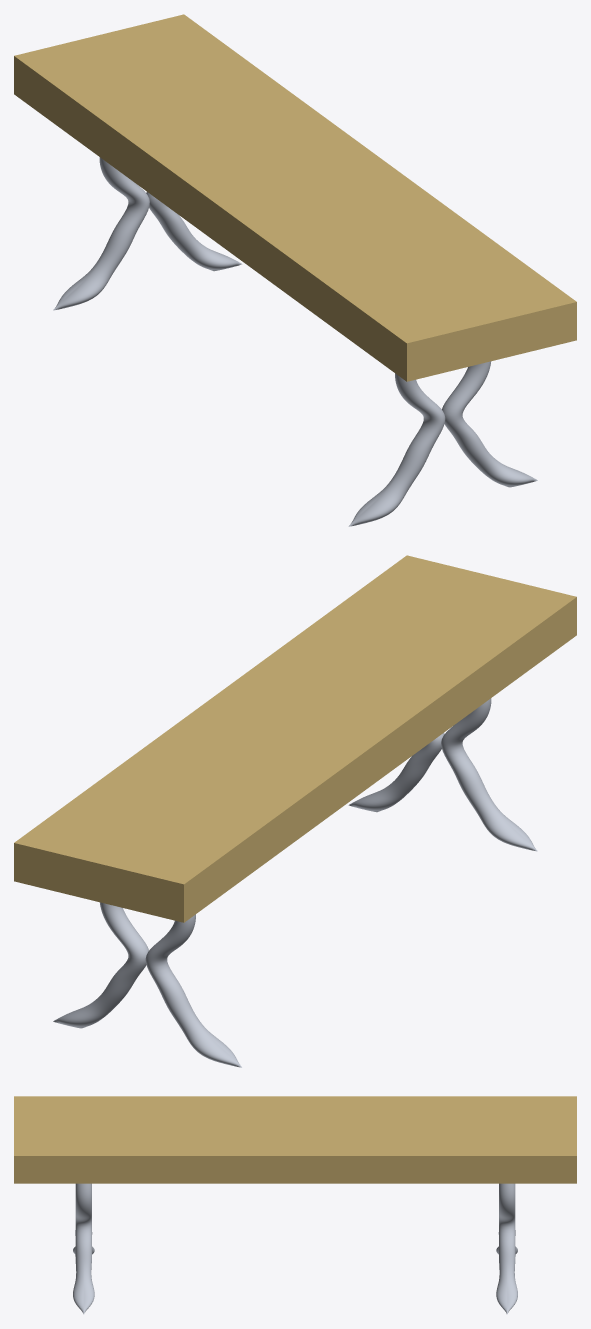
The model's file is museum_bench__0025f9484fc6.glb.
3 renders of one model, top to bottom at view 1: azimuth 30°, elevation 25°; view 2: azimuth 150°, elevation 25°; view 3: azimuth 270°, elevation 25°, orthographic. The views are drawn at different scales.
Visible parts, largest first — view 1: seat, curved_limb, curved_limb.001; view 2: seat, curved_limb.001, curved_limb; view 3: seat, curved_limb, curved_limb.001.
Boxes of the visible parts, bbox=[...] form: seat: bbox=[14, 14, 576, 381]; curved_limb: bbox=[348, 361, 537, 526]; curved_limb.001: bbox=[53, 157, 242, 310]; seat: bbox=[14, 555, 576, 922]; curved_limb.001: bbox=[53, 902, 241, 1067]; curved_limb: bbox=[348, 698, 537, 851]; seat: bbox=[14, 1096, 576, 1183]; curved_limb: bbox=[73, 1183, 94, 1314]; curved_limb.001: bbox=[496, 1183, 517, 1314].
Size of the model in its own units: 0.418 by 0.456 by 1.5.
